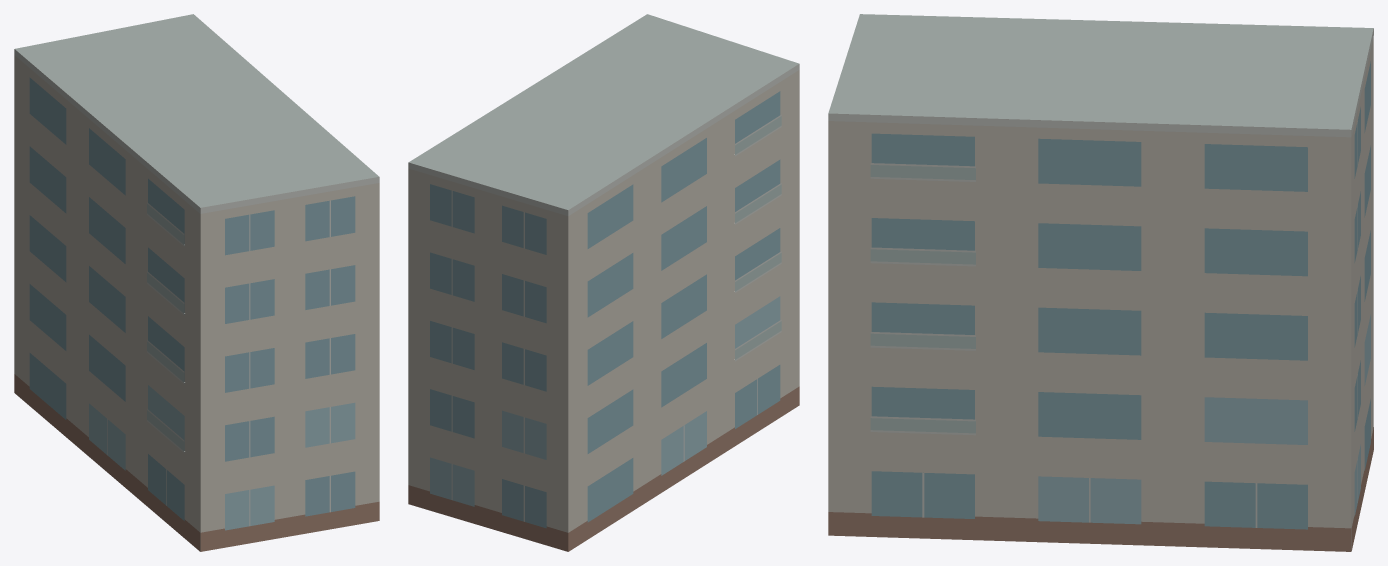
The model's file is survey-upis-32679680.glb.
3 renders of one model, left to right at view 1: azimuth 30°, elevation 25°; view 2: azimuth 150°, elevation 25°; view 3: azimuth 270°, elevation 25°, orthographic. The views are drawn at different scales.
Parts seen in each view (by area): view 1: survey-upis-32679680.tmp; view 2: survey-upis-32679680.tmp; view 3: survey-upis-32679680.tmp.
Part boxes in pixels (x1=…): survey-upis-32679680.tmp: x1=14, y1=14, x2=379, y2=551; survey-upis-32679680.tmp: x1=408, y1=14, x2=799, y2=551; survey-upis-32679680.tmp: x1=828, y1=14, x2=1373, y2=551.
Bounding box in the file's own units: 8.1 × 13.75 × 16.12.
